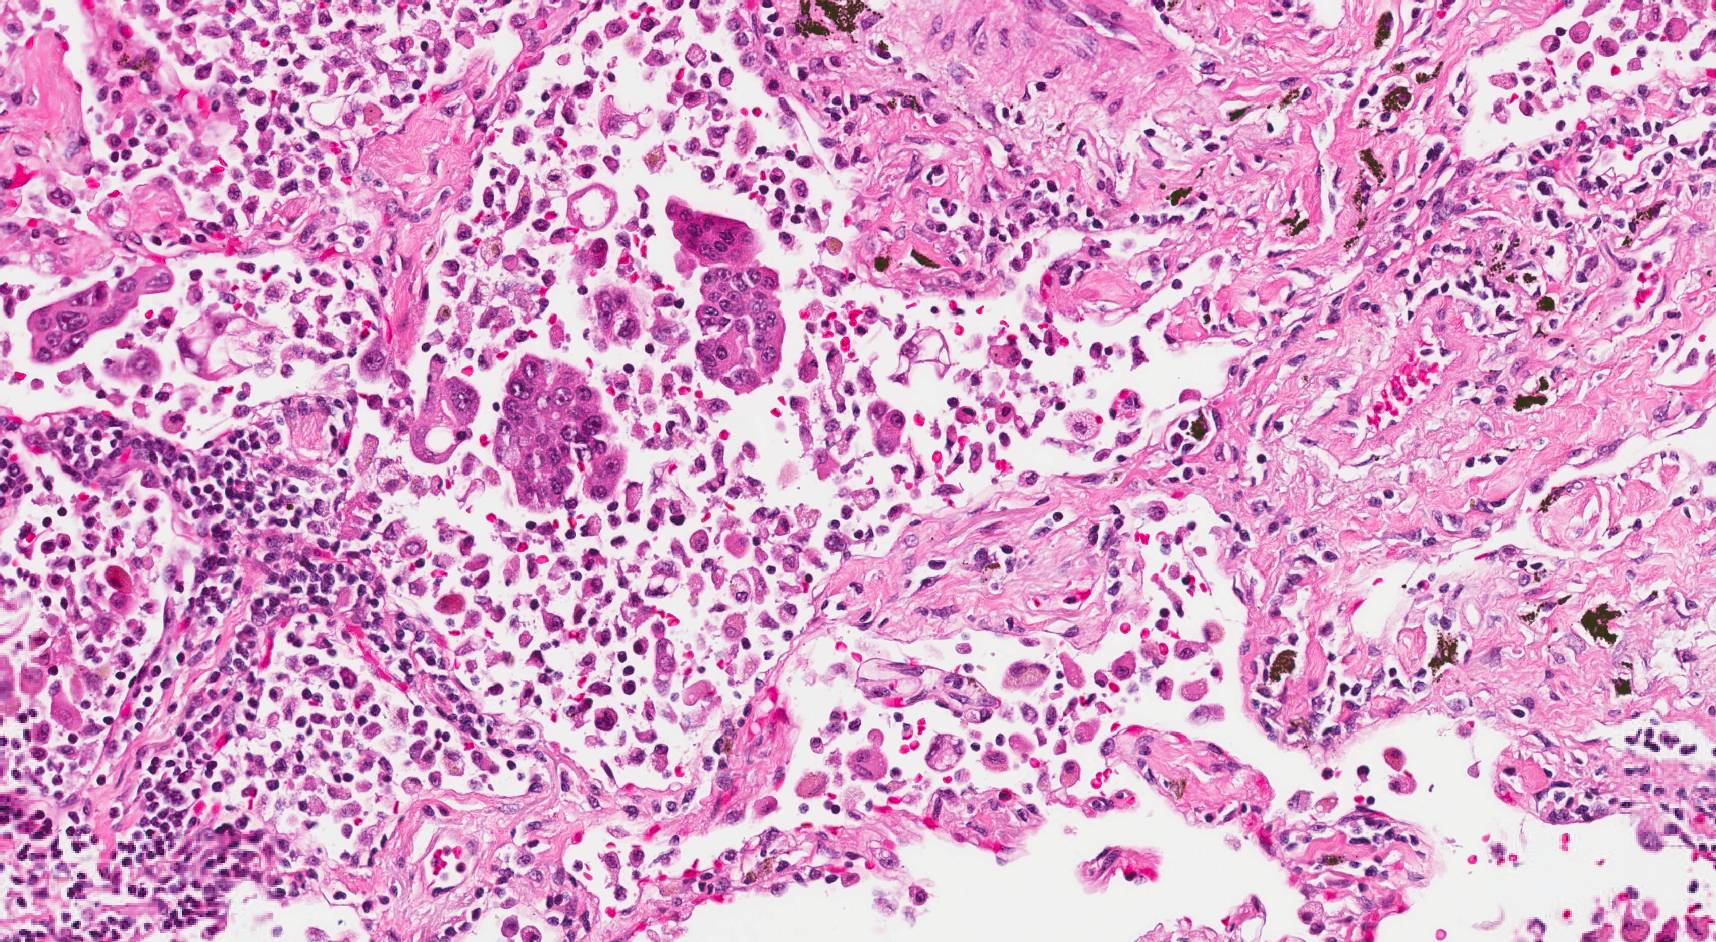stas: (664, 195, 785, 393), (493, 350, 627, 510), (25, 261, 176, 362), (855, 657, 1003, 724), (410, 352, 483, 466), (591, 288, 643, 343), (862, 403, 903, 457), (923, 729, 969, 773)
